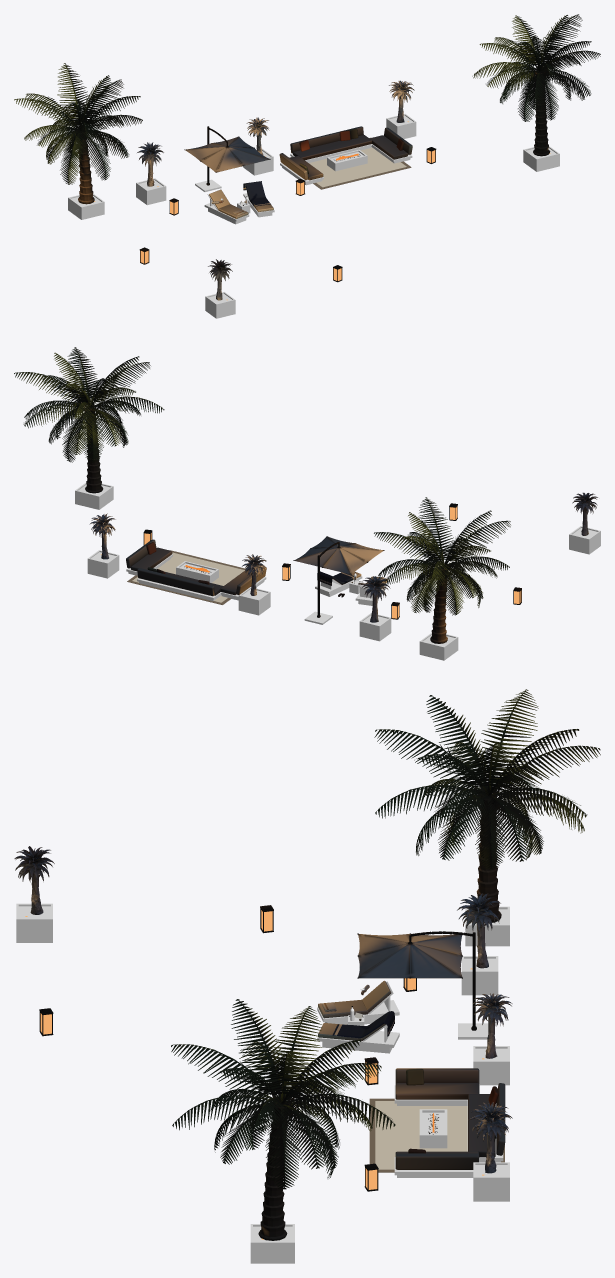
The model's file is pool.glb.
3 views of the same model, one above another, from view 1: azimuth 30°, elevation 25°; view 2: azimuth 150°, elevation 25°; view 3: azimuth 270°, elevation 25° (orthographic). The views are drawn at different scales.
Visible parts, largest first — view 1: pool__out__vtx, pool__out__pol, pool__out__raw; view 2: pool__out__vtx, pool__out__pol, pool__out__raw; view 3: pool__out__vtx, pool__out__pol, pool__out__raw.
Part boxes in pixels (box(x1,y1,x2,y2)): pool__out__vtx: box(14, 14, 600, 300); pool__out__pol: box(68, 113, 559, 318); pool__out__raw: box(94, 121, 550, 300); pool__out__vtx: box(14, 347, 597, 643); pool__out__pol: box(75, 482, 600, 660); pool__out__raw: box(101, 506, 521, 618); pool__out__vtx: box(14, 689, 600, 1240); pool__out__pol: box(16, 903, 509, 1263); pool__out__raw: box(25, 910, 484, 1239).
Size of the model in its own units: 25.29 by 6.54 by 15.16.
